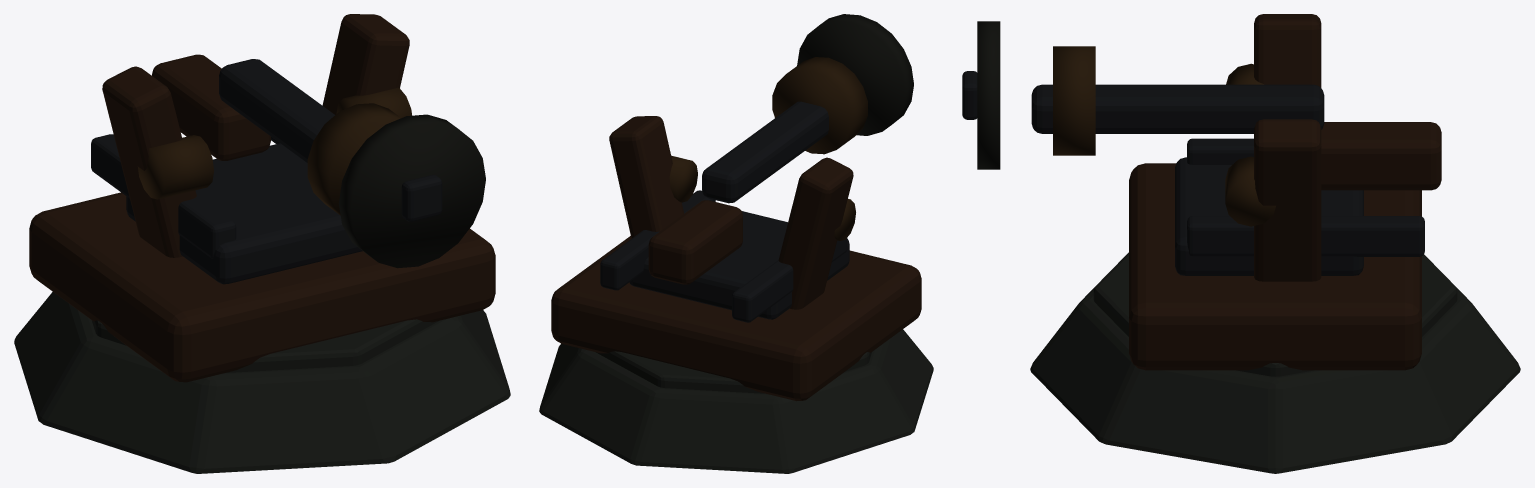
Rendered from TowerBounce1.obj.
The picture shows the model from 3 angles, left to right: view 1: azimuth 30°, elevation 25°; view 2: azimuth 150°, elevation 25°; view 3: azimuth 270°, elevation 25°; orthographic projection. The views are drawn at different scales.
Visible parts, largest first — view 1: cut_stone_socket_lower_course, heavy_oak_table, throwing_disc, iron_swivel, oak_throwing_cheek, counterweight_beam, iron_throw_arm, oak_throwing_cheek.001, bronze_sling_drum, cut_stone_socket_upper_course, iron_stabiliser, bronze_pivot_pin (+2 smaller); view 2: cut_stone_socket_lower_course, heavy_oak_table, throwing_disc, oak_throwing_cheek, oak_throwing_cheek.001, iron_throw_arm, iron_swivel, counterweight_beam, bronze_sling_drum, cut_stone_socket_upper_course, iron_stabiliser, iron_stabiliser.001 (+2 smaller); view 3: cut_stone_socket_lower_course, heavy_oak_table, iron_throw_arm, oak_throwing_cheek.001, counterweight_beam, iron_stabiliser.001, iron_swivel, oak_throwing_cheek, bronze_sling_drum, cut_stone_socket_upper_course, throwing_disc, bronze_pivot_pin.001 (+2 smaller).
Boxes of the visible parts, x1=… form: cut_stone_socket_lower_course: x1=14, y1=292, x2=510, y2=473; heavy_oak_table: x1=29, y1=192, x2=495, y2=382; throwing_disc: x1=338, y1=114, x2=485, y2=268; iron_swivel: x1=126, y1=143, x2=362, y2=284; oak_throwing_cheek: x1=102, y1=66, x2=196, y2=257; counterweight_beam: x1=152, y1=54, x2=270, y2=160; iron_throw_arm: x1=219, y1=59, x2=334, y2=162; oak_throwing_cheek.001: x1=322, y1=14, x2=409, y2=114; bronze_sling_drum: x1=307, y1=103, x2=401, y2=215; cut_stone_socket_upper_course: x1=92, y1=319, x2=439, y2=372; iron_stabiliser: x1=91, y1=134, x2=236, y2=258; bronze_pivot_pin: x1=137, y1=135, x2=213, y2=199; cut_stone_socket_lower_course: x1=539, y1=329, x2=933, y2=473; heavy_oak_table: x1=551, y1=236, x2=921, y2=401; throwing_disc: x1=797, y1=14, x2=913, y2=135; oak_throwing_cheek: x1=778, y1=157, x2=853, y2=309; oak_throwing_cheek.001: x1=609, y1=116, x2=684, y2=238; iron_throw_arm: x1=702, y1=101, x2=828, y2=203; iron_swivel: x1=629, y1=211, x2=849, y2=319; counterweight_beam: x1=648, y1=200, x2=742, y2=284; bronze_sling_drum: x1=772, y1=57, x2=867, y2=154; cut_stone_socket_upper_course: x1=596, y1=351, x2=871, y2=393; iron_stabiliser: x1=732, y1=238, x2=847, y2=322; iron_stabiliser.001: x1=600, y1=190, x2=715, y2=290; cut_stone_socket_lower_course: x1=1030, y1=257, x2=1520, y2=473; heavy_oak_table: x1=1129, y1=163, x2=1421, y2=370; iron_throw_arm: x1=1031, y1=84, x2=1324, y2=133; oak_throwing_cheek.001: x1=1254, y1=119, x2=1321, y2=281; counterweight_beam: x1=1321, y1=122, x2=1441, y2=190; iron_stabiliser.001: x1=1187, y1=216, x2=1424, y2=256; iron_swivel: x1=1175, y1=157, x2=1363, y2=275; oak_throwing_cheek: x1=1254, y1=14, x2=1321, y2=87; bronze_sling_drum: x1=1053, y1=46, x2=1095, y2=155; cut_stone_socket_upper_course: x1=1093, y1=252, x2=1457, y2=376; throwing_disc: x1=977, y1=21, x2=1000, y2=169; bronze_pivot_pin.001: x1=1225, y1=156, x2=1275, y2=226.
Bounding box in the file's own units: 1.61 × 1.25 × 1.83.
